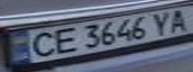3: (78, 21, 103, 50)
4: (115, 17, 136, 43)
6: (130, 14, 154, 40), (100, 19, 121, 47)
A: (163, 7, 193, 33)
C: (21, 29, 60, 58)
E: (48, 25, 81, 55)
Y: (148, 10, 175, 36)
